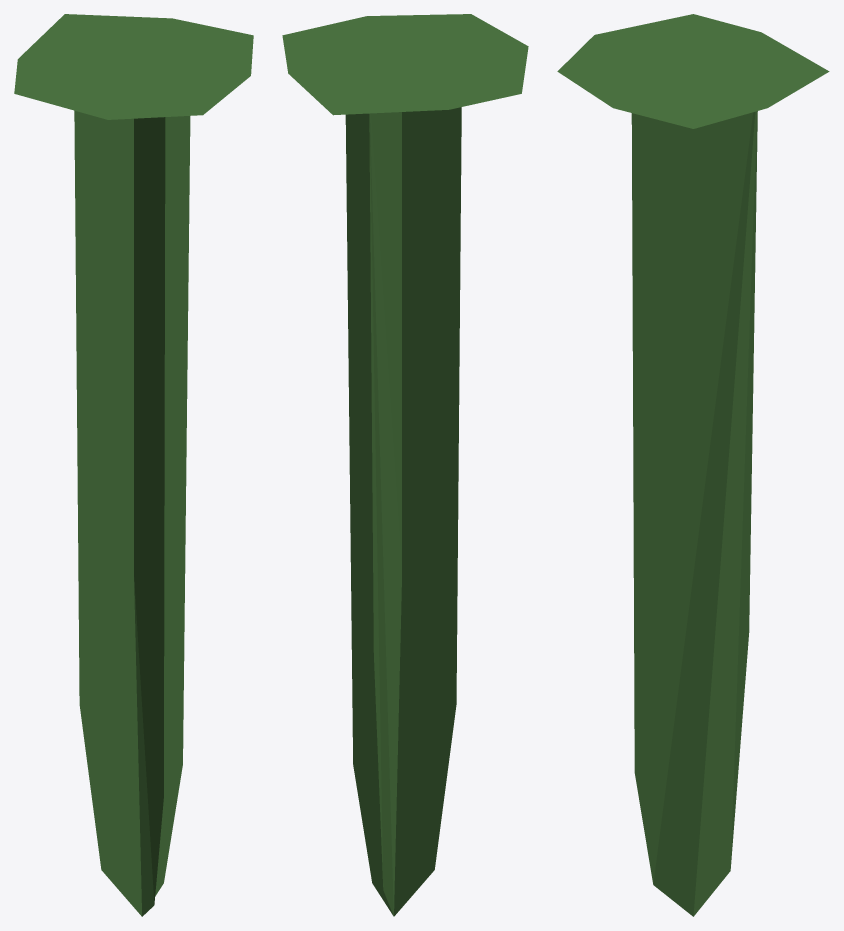
File: cac1.obj
3 views of the same model, side by side, from view 1: azimuth 30°, elevation 25°; view 2: azimuth 150°, elevation 25°; view 3: azimuth 270°, elevation 25° (orthographic).
Size of the model in its own units: 70.4 by 240 by 70.4.
